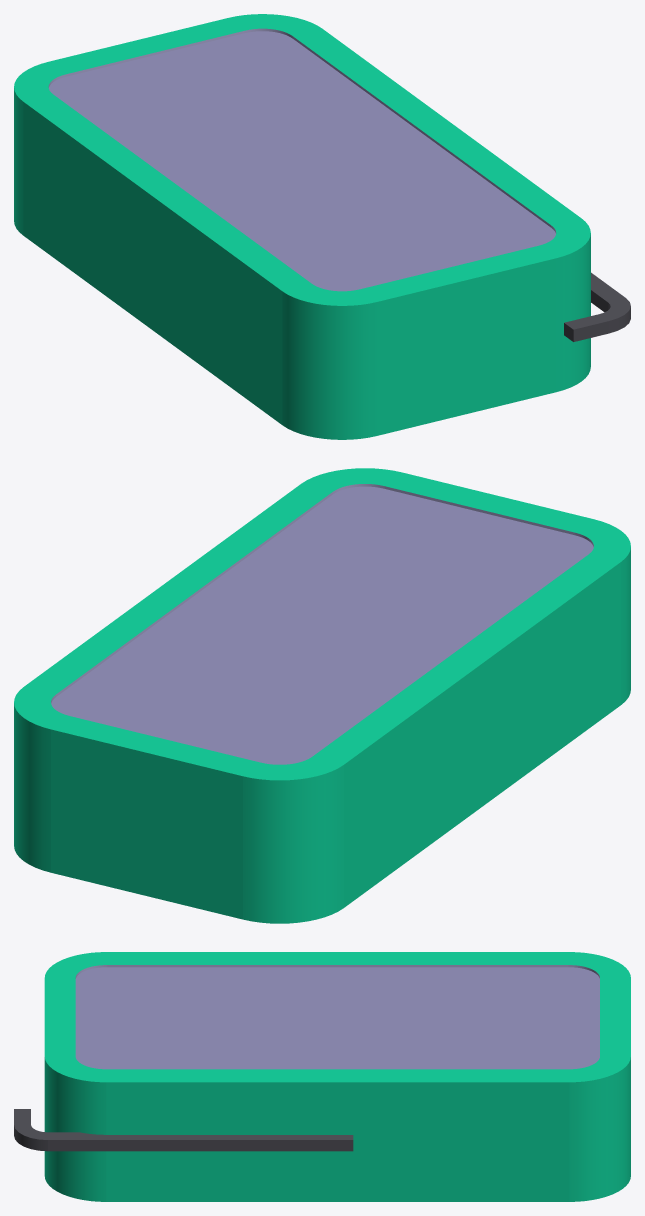
File: suitcase2.fbx
3 views of the same model, one above another, from view 1: azimuth 30°, elevation 25°; view 2: azimuth 150°, elevation 25°; view 3: azimuth 270°, elevation 25° (orthographic). The views are drawn at different scales.
Parts seen in each view (by area): view 1: rail_back (×4), roof_flatSingle, detail_fence_side; view 2: rail_back (×4), roof_flatSingle; view 3: rail_back (×4), roof_flatSingle, detail_fence_side.
Part boxes in pixels (x1,y1,x2,y2): rail_back (×4): (14,14,590,439); roof_flatSingle: (49,31,555,291); detail_fence_side: (564,272,630,341); rail_back (×4): (14,468,630,923); roof_flatSingle: (51,486,593,764); rail_back (×4): (44,952,630,1201); roof_flatSingle: (75,967,599,1069); detail_fence_side: (14,1109,353,1151).
Bounding box in the file's own units: 10.4 × 4.28 × 20.
